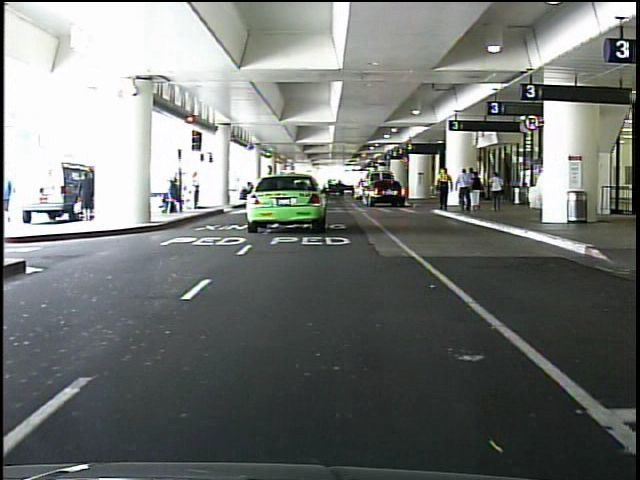person: (432, 165, 455, 216), (484, 170, 508, 218), (79, 170, 101, 221), (454, 167, 474, 217), (470, 170, 485, 214), (191, 170, 206, 213)
